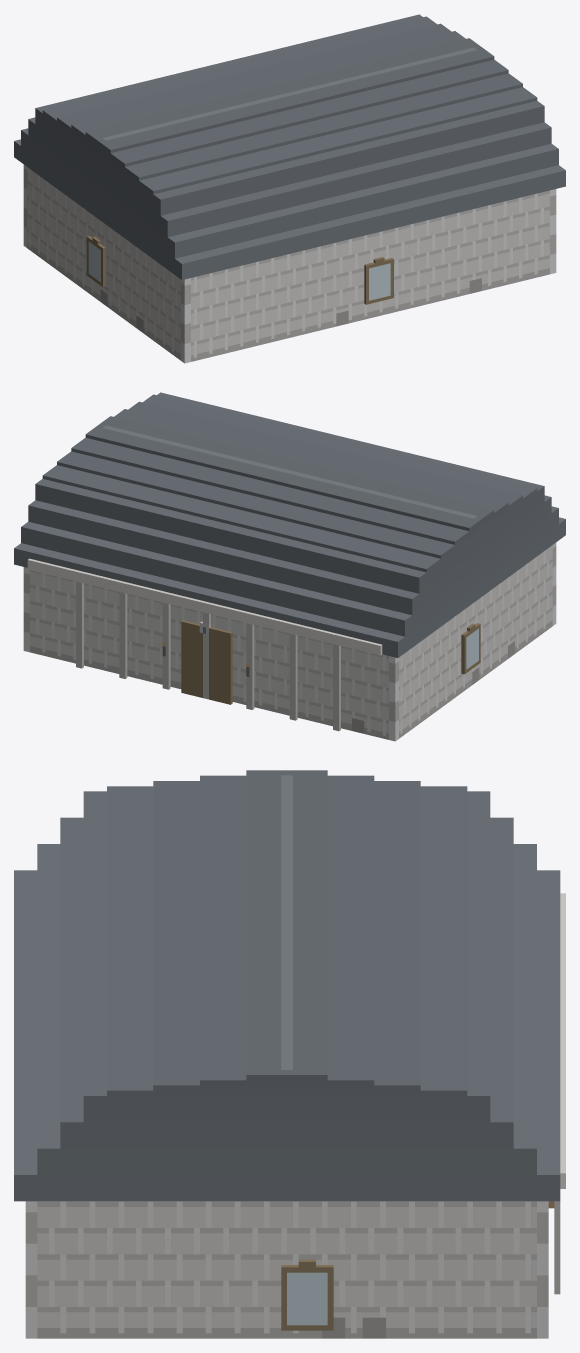
Rendered from salon_jarl_02.glb.
3 renders of one model, top to bottom at view 1: azimuth 30°, elevation 25°; view 2: azimuth 150°, elevation 25°; view 3: azimuth 270°, elevation 25°, orthographic. The views are drawn at different scales.
Parts seen in each view (by area): view 1: salon_jarl_02; view 2: salon_jarl_02; view 3: salon_jarl_02.
Part boxes in pixels (x1,y1,x2,y2): salon_jarl_02: (14,14,565,363); salon_jarl_02: (14,392,565,741); salon_jarl_02: (14,770,565,1338).
Size of the model in its own units: 12.4 by 5.1 by 9.5.
